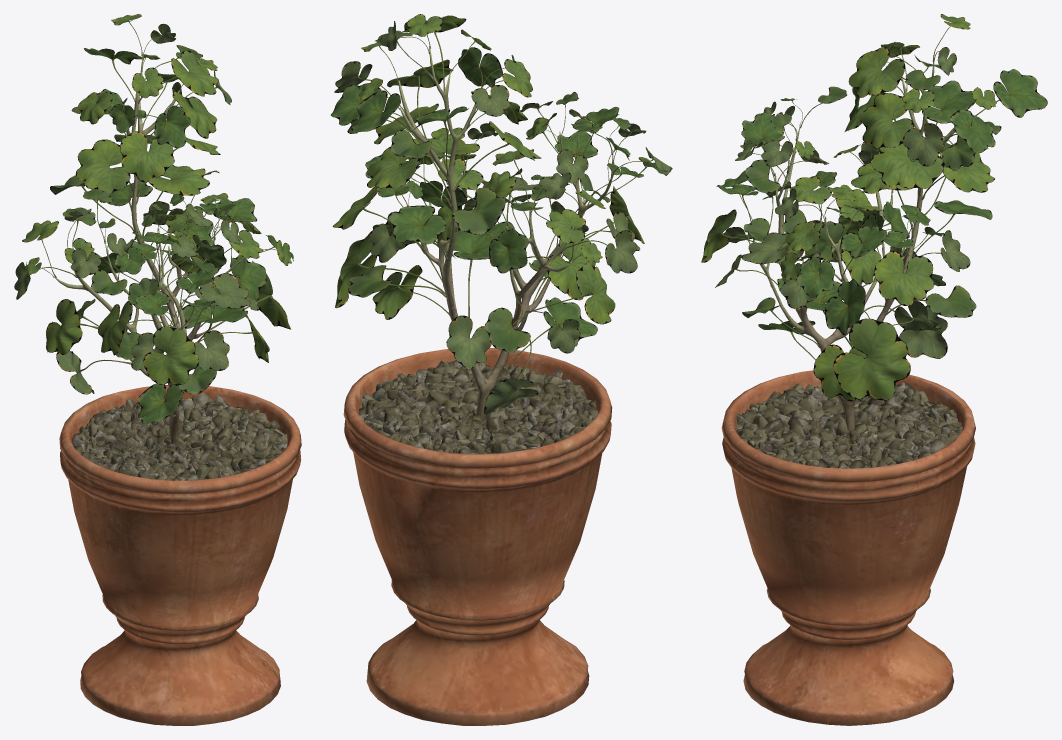
The model's file is potted-plant.glb.
3 views of the same model, side by side, from view 1: azimuth 30°, elevation 25°; view 2: azimuth 150°, elevation 25°; view 3: azimuth 270°, elevation 25° (orthographic). The views are drawn at different scales.
Visible parts, largest first — view 1: potted_plant_01_stem, potted_plant_01_leaves; view 2: potted_plant_01_stem, potted_plant_01_leaves; view 3: potted_plant_01_stem, potted_plant_01_leaves.
Boxes of the visible parts, x1,y1,x2,y2 form: potted_plant_01_stem: (54, 54, 301, 725); potted_plant_01_leaves: (14, 14, 293, 424); potted_plant_01_stem: (343, 48, 613, 725); potted_plant_01_leaves: (331, 14, 672, 414); potted_plant_01_stem: (721, 55, 975, 725); potted_plant_01_leaves: (701, 14, 1047, 401).
Size of the model in its own units: 0.5874 by 1.34 by 0.6336.
2 materials, 2 textured.
